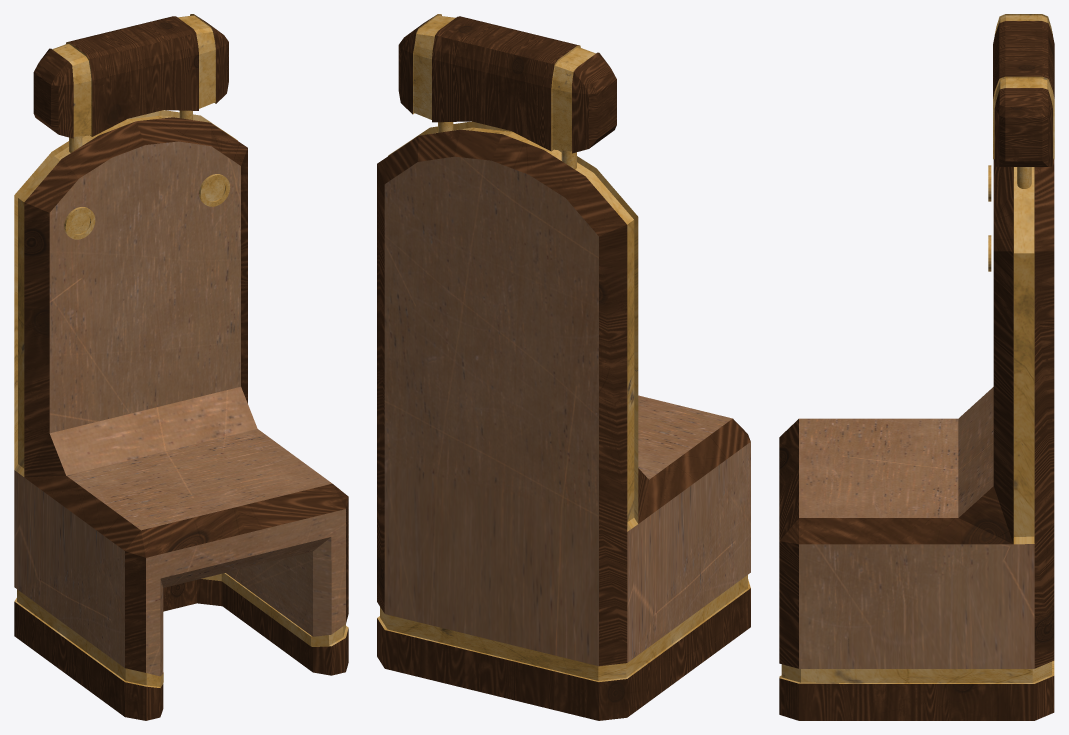
The model's file is chair.fbx.
3 renders of one model, left to right at view 1: azimuth 30°, elevation 25°; view 2: azimuth 150°, elevation 25°; view 3: azimuth 270°, elevation 25°, orthographic. The views are drawn at different scales.
Parts seen in each view (by area): view 1: Cube.011; view 2: Cube.011; view 3: Cube.011.
Boxes of the visible parts, <box> form: Cube.011: <box>14,14,348,720</box>; Cube.011: <box>377,14,750,720</box>; Cube.011: <box>779,14,1054,720</box>.
Bounding box in the file's own units: 46.12 × 114 × 46.14.
3 materials, 3 textured.
